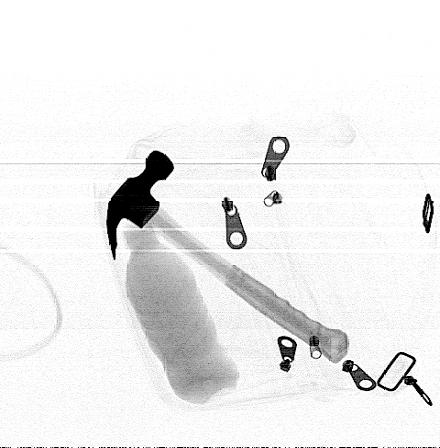Hammer: (105, 148, 349, 364)
